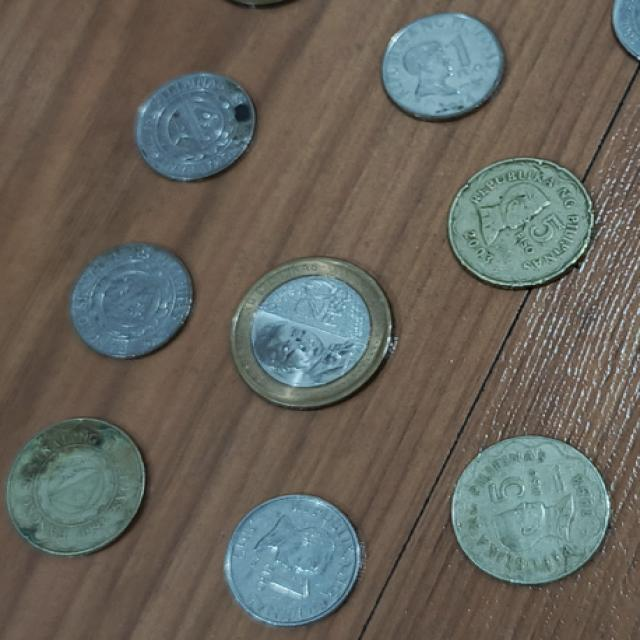1_peso: (225, 495, 359, 625), (70, 243, 191, 358), (381, 13, 503, 120), (136, 74, 254, 179)
20_peso: (232, 257, 391, 408)
5_peso: (453, 436, 608, 583), (7, 419, 144, 555), (449, 158, 592, 288)
